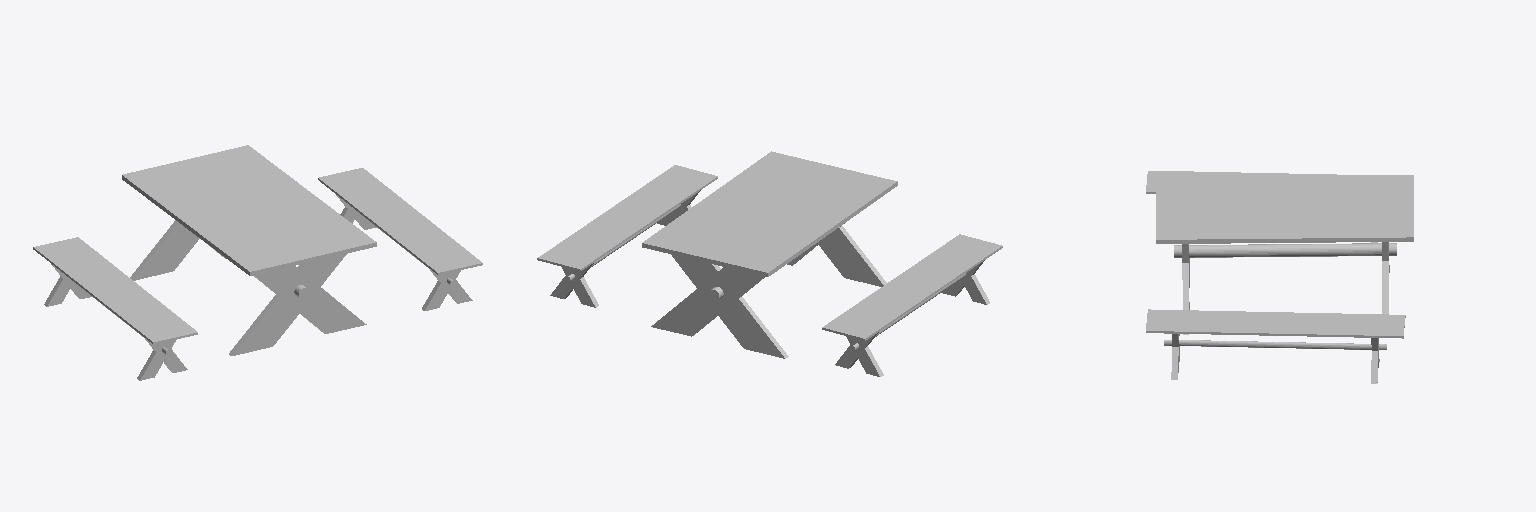
The model's file is benchConverted.obj.
The picture shows the model from 3 angles: view 1: azimuth 30°, elevation 25°; view 2: azimuth 150°, elevation 25°; view 3: azimuth 270°, elevation 25°; orthographic projection.
Bounding box in the file's own units: 0.567 × 0.1552 × 0.3891.